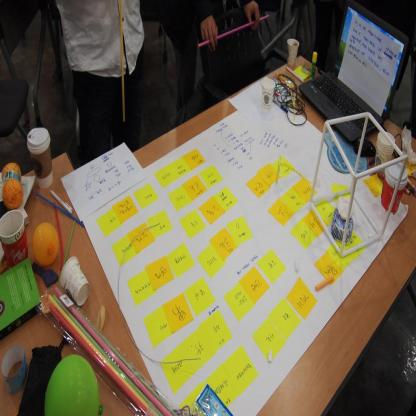board: (318, 12, 404, 117)
